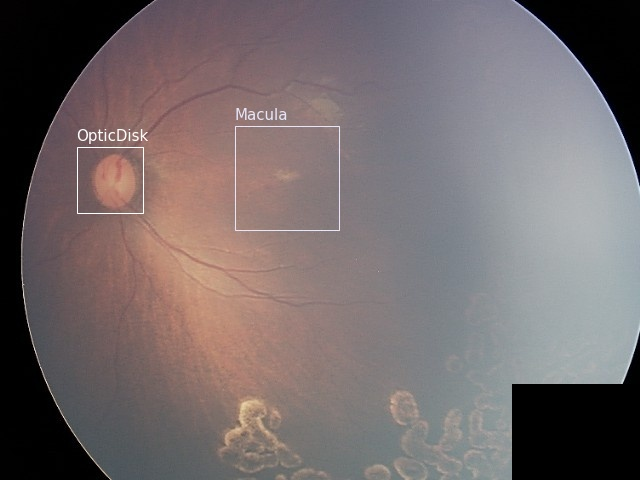Macula: (234, 125, 338, 229)
OpticDisk: (76, 146, 142, 212)
